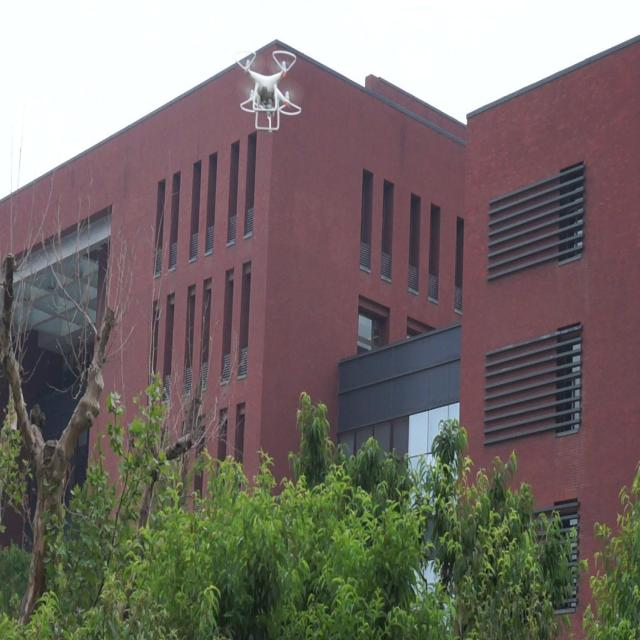drone: (233, 48, 304, 139)
